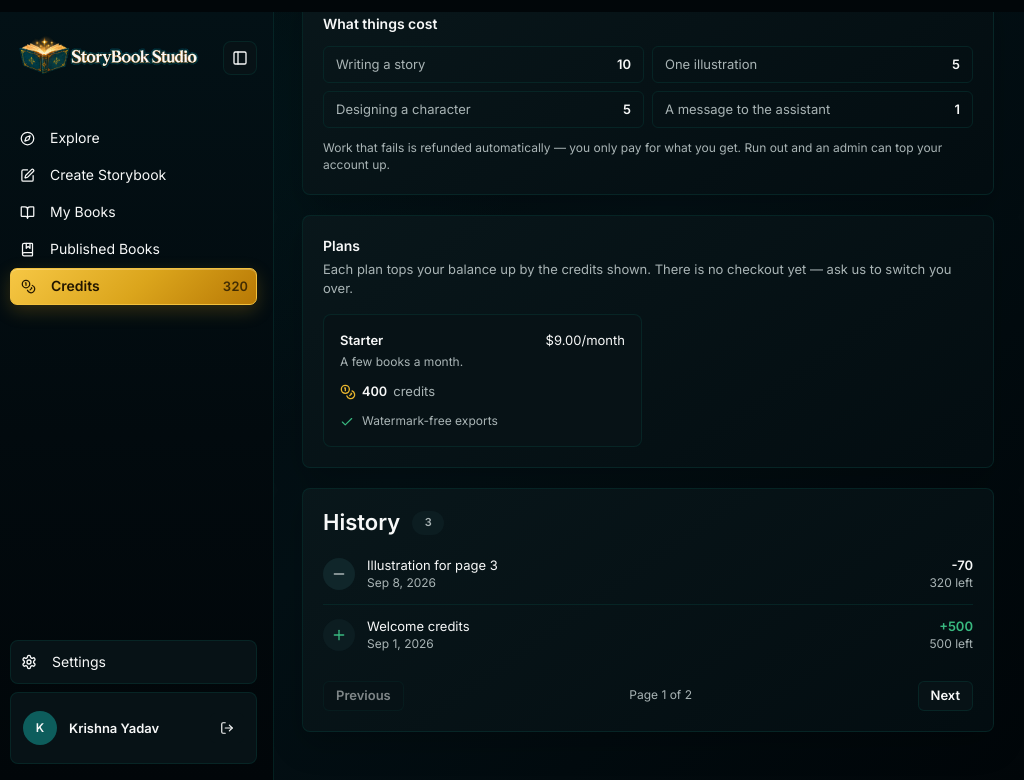
Test: the credits screen › pages through a longer history
(page scrolled)
Check: the text "Illustration for page 3" is shown, box [367,558,498,574]
Click the button "Next" at (945, 696), box [918,681,973,711]
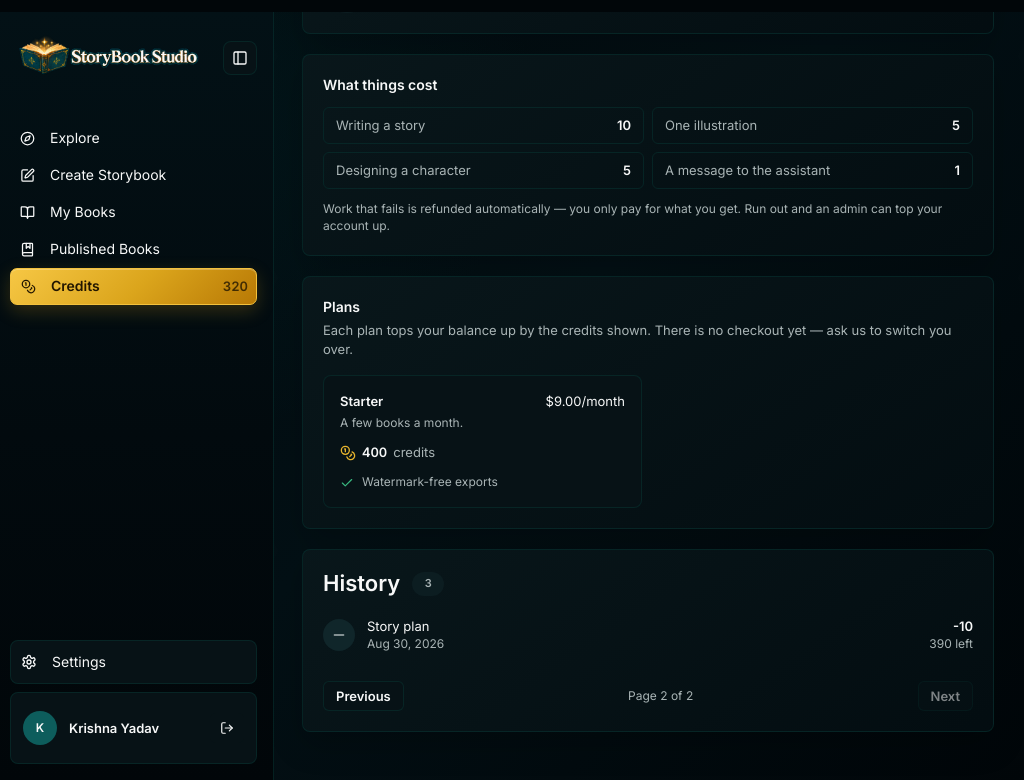
Check: the text "Story plan" is shown, box [367,618,429,634]
Check: the text "Illustration for page 3" is gone
